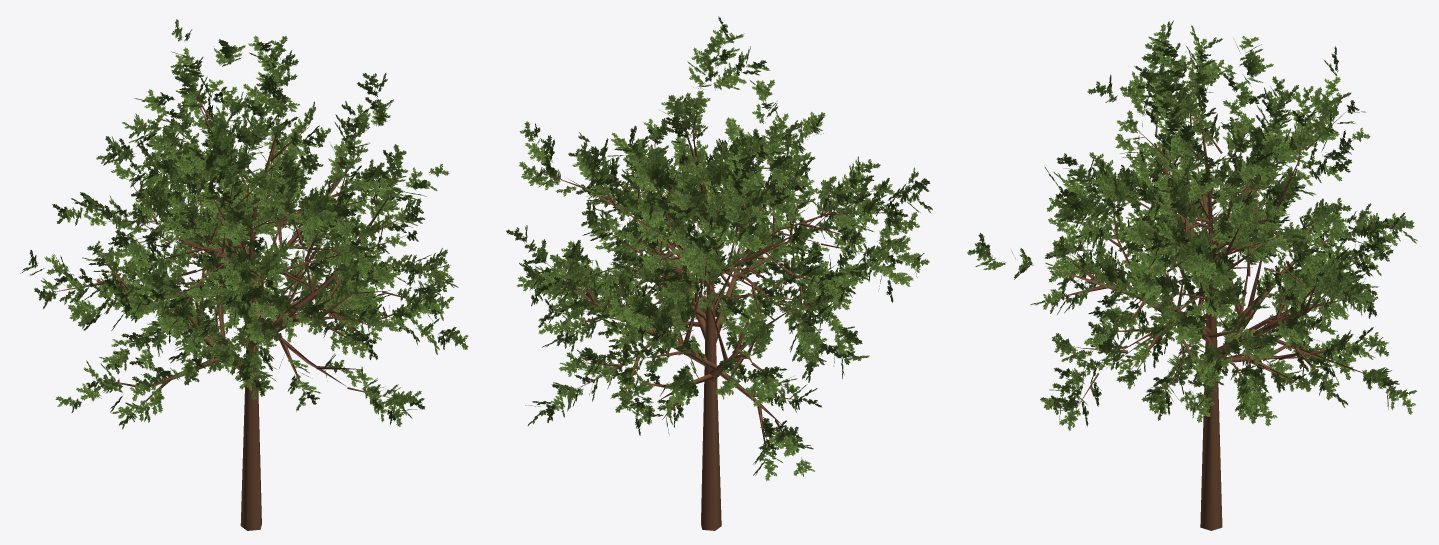
Rendered from tree2_lod1.glb.
3 renders of one model, left to right at view 1: azimuth 30°, elevation 25°; view 2: azimuth 150°, elevation 25°; view 3: azimuth 270°, elevation 25°, orthographic. The views are drawn at different scales.
Parts seen in each view (by area): view 1: leaves, trunk; view 2: leaves, trunk; view 3: leaves, trunk.
Boxes of the visible parts, bbox=[...] form: leaves: bbox=[20, 19, 468, 429]; trunk: bbox=[49, 84, 423, 530]; leaves: bbox=[506, 16, 932, 481]; trunk: bbox=[534, 108, 874, 530]; leaves: bbox=[967, 20, 1418, 430]; trunk: bbox=[1047, 84, 1365, 530].
Bounding box in the file's own units: 0.8208 × 1 × 0.8176.
2 materials, 1 textured.
